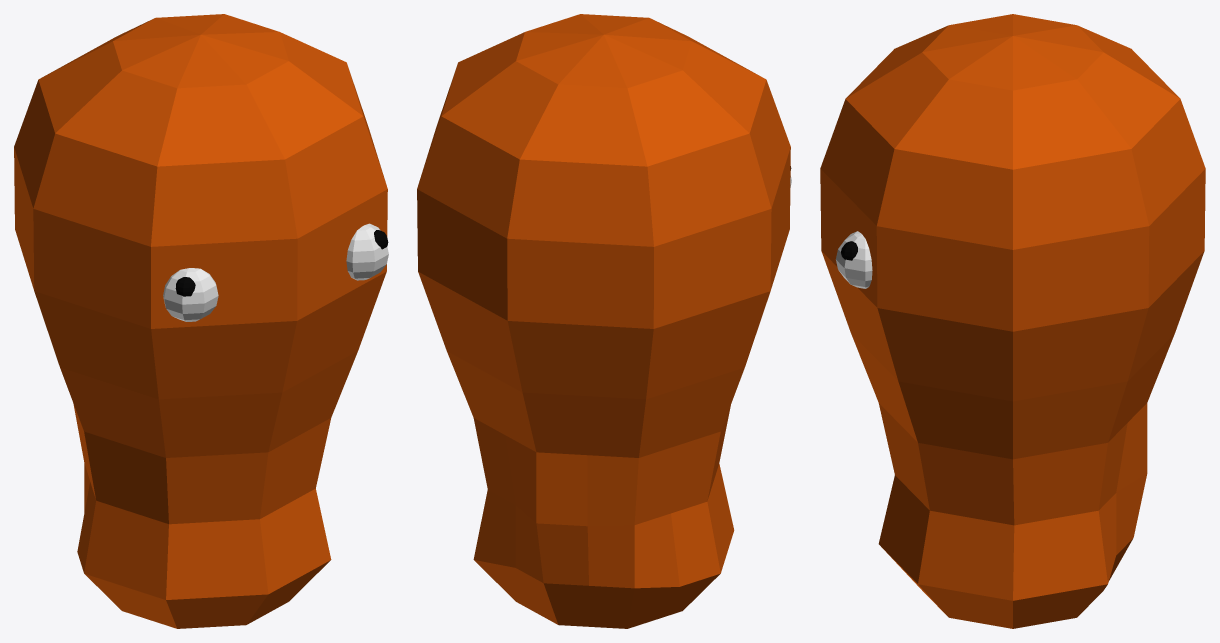
Rendered from squid.fbx.
3 views of the same model, side by side, from view 1: azimuth 30°, elevation 25°; view 2: azimuth 150°, elevation 25°; view 3: azimuth 270°, elevation 25° (orthographic).
Visible parts, largest first — view 1: Sphere, Sphere.001, Sphere.003; view 2: Sphere; view 3: Sphere, Sphere.003.
Boxes of the visible parts, left/top/right/bottom form: Sphere: left=14, top=14, right=387, bottom=628; Sphere.001: left=163, top=268, right=218, bottom=321; Sphere.003: left=346, top=223, right=388, bottom=280; Sphere: left=417, top=14, right=790, bottom=628; Sphere: left=820, top=14, right=1205, bottom=628; Sphere.003: left=835, top=231, right=872, bottom=288.
Size of the model in its own units: 325 by 532 by 325.
